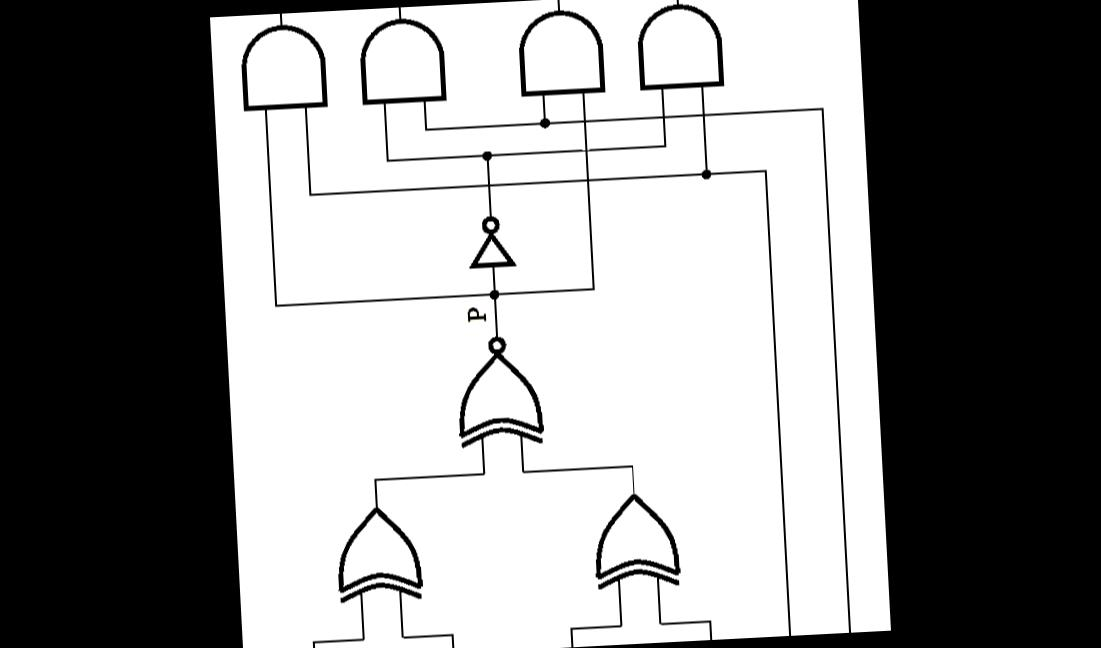and: (349, 7, 455, 116), (232, 13, 335, 122), (509, 0, 612, 105), (625, 0, 731, 100)
not: (459, 206, 524, 282)
xnor: (447, 328, 550, 456)
xor: (581, 482, 690, 597), (326, 496, 430, 610)
